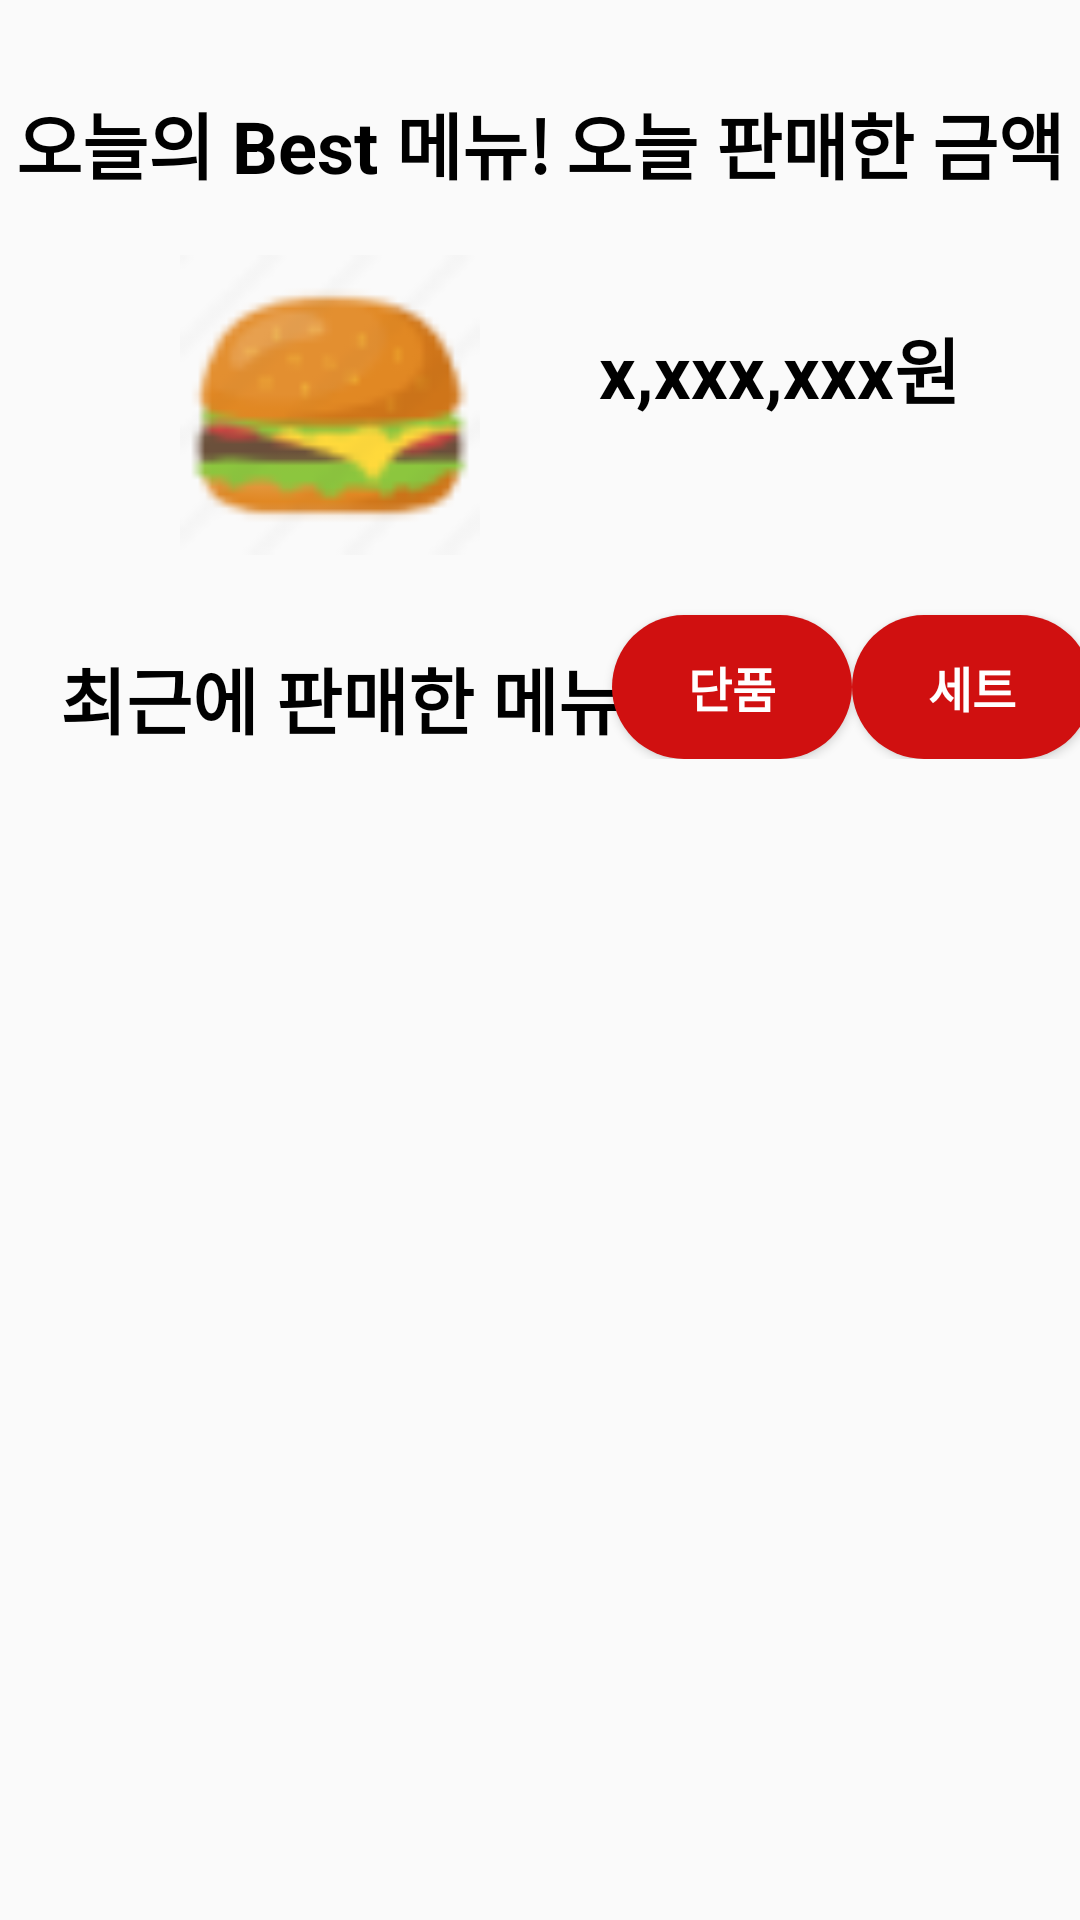

Where icons sit on this 1080x1920 app screen, as box=[x1, y1, x2, y2]:
hamburgericon: box=[193, 294, 468, 517]
